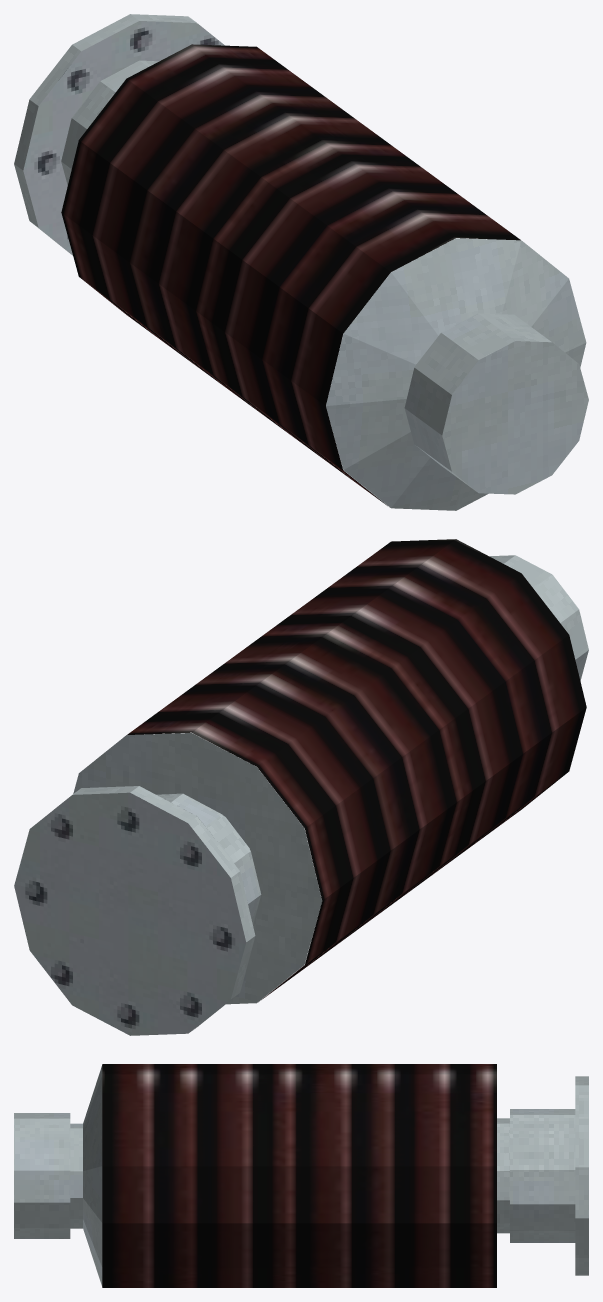
The model's file is jyzz017-geode.glb.
The picture shows the model from 3 angles, top to bottom: view 1: azimuth 30°, elevation 25°; view 2: azimuth 150°, elevation 25°; view 3: azimuth 270°, elevation 25°; orthographic projection. The views are drawn at different scales.
Parts seen in each view (by area): view 1: Node; view 2: Node; view 3: Node.
Part boxes in pixels (x1,y1,x2,y2): Node: (14,14,588,510); Node: (14,539,588,1035); Node: (14,1064,588,1287).
Size of the model in its own units: 0.157 by 0.157 by 0.4021.
Materials: 3 (3 with a texture image).
